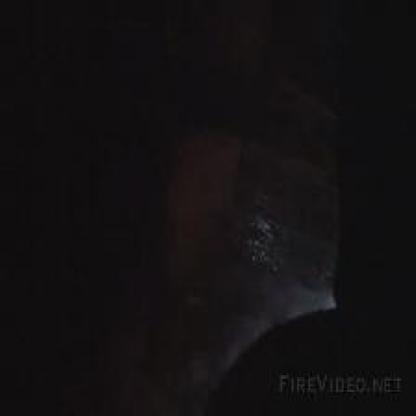other: (265, 276, 342, 316)
